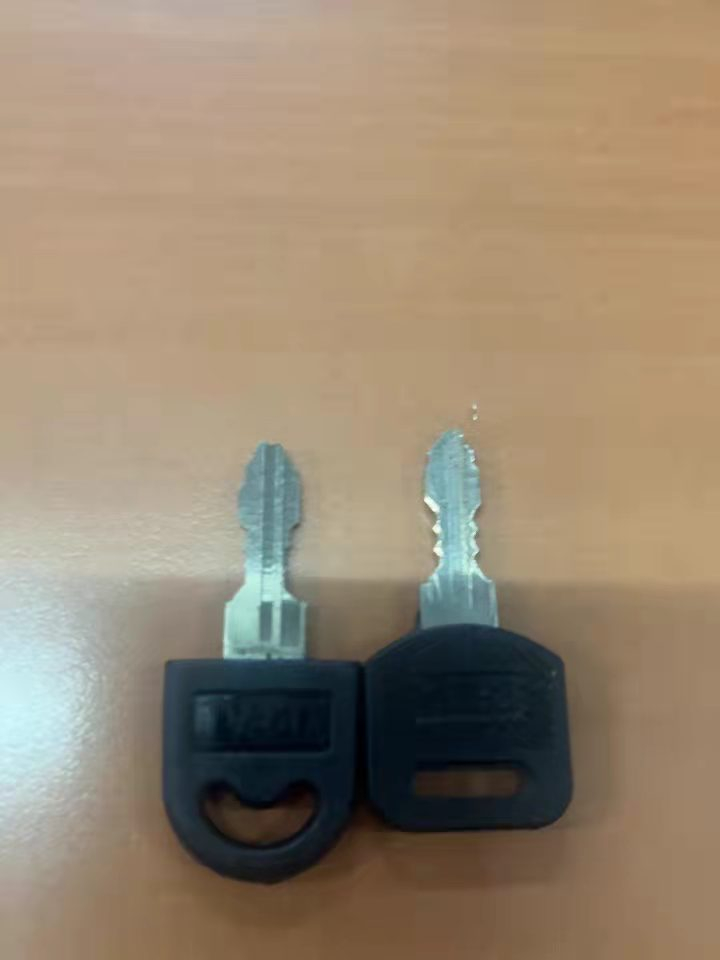key: (364, 403, 581, 840), (164, 417, 362, 886)
